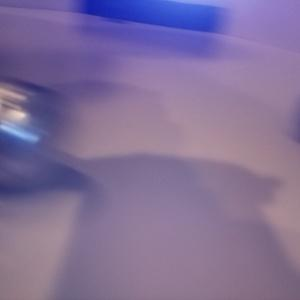alive_ball: (1, 76, 62, 189)
